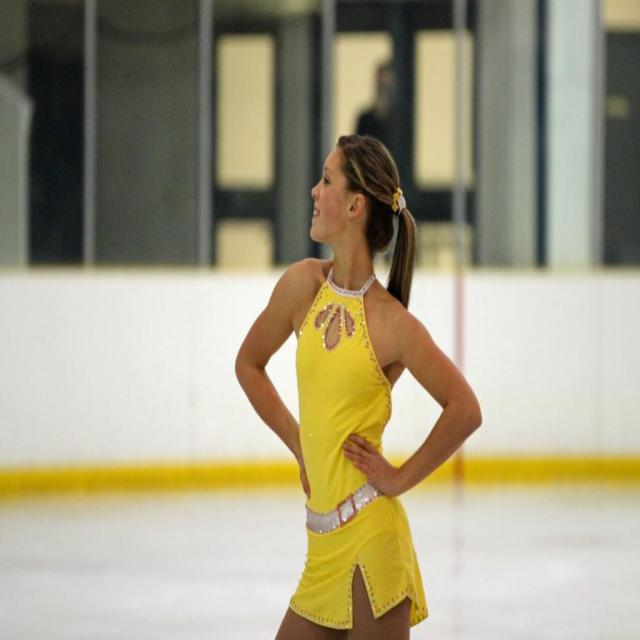nomask: (311, 146, 350, 240)
